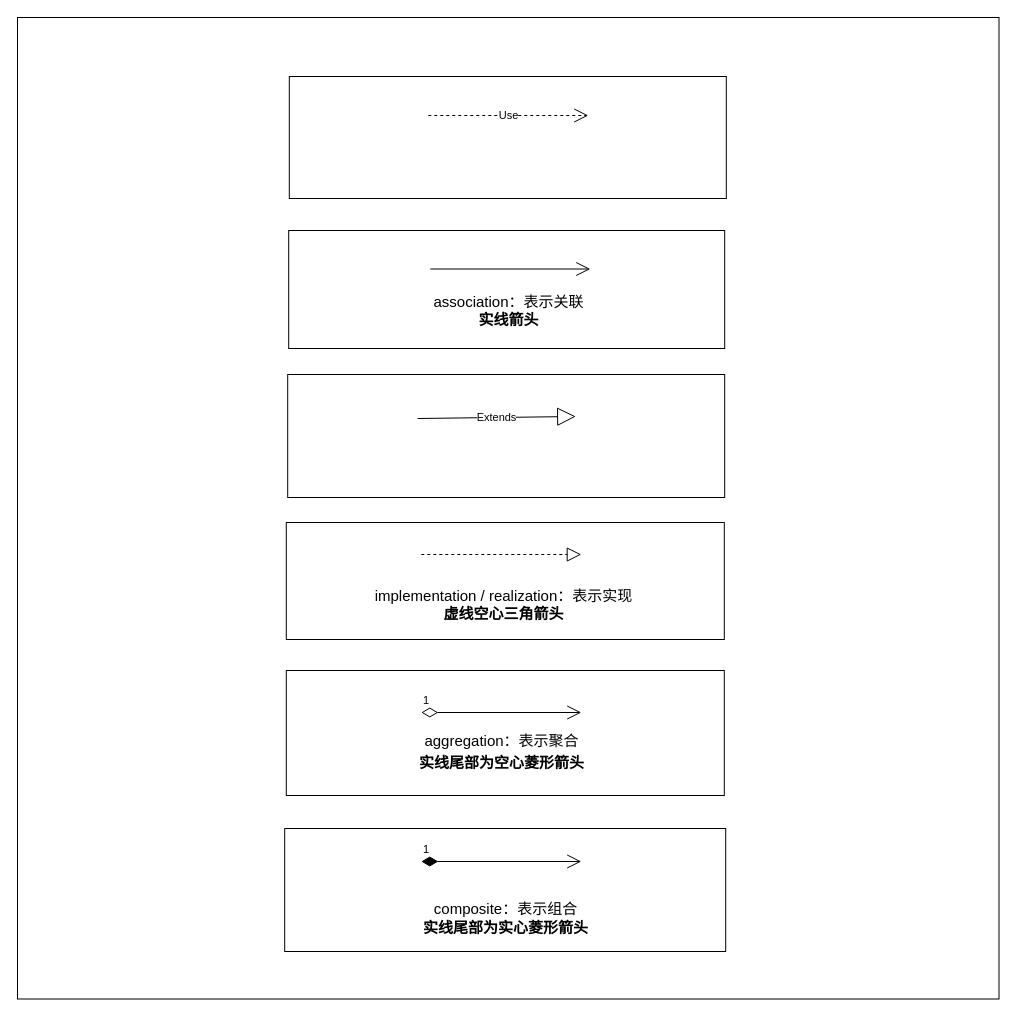
The diagram is 1017 pixels wide and 1017 high, and some of its shapes have lost their labels. Here are the shapes that lost their labels. From the top down, the centre of each, then its label:
the point at 507,137: dependency：依赖使用 虚线箭头
the point at 506,436: generalization：表示泛化（继承） 实线空心三角箭头
